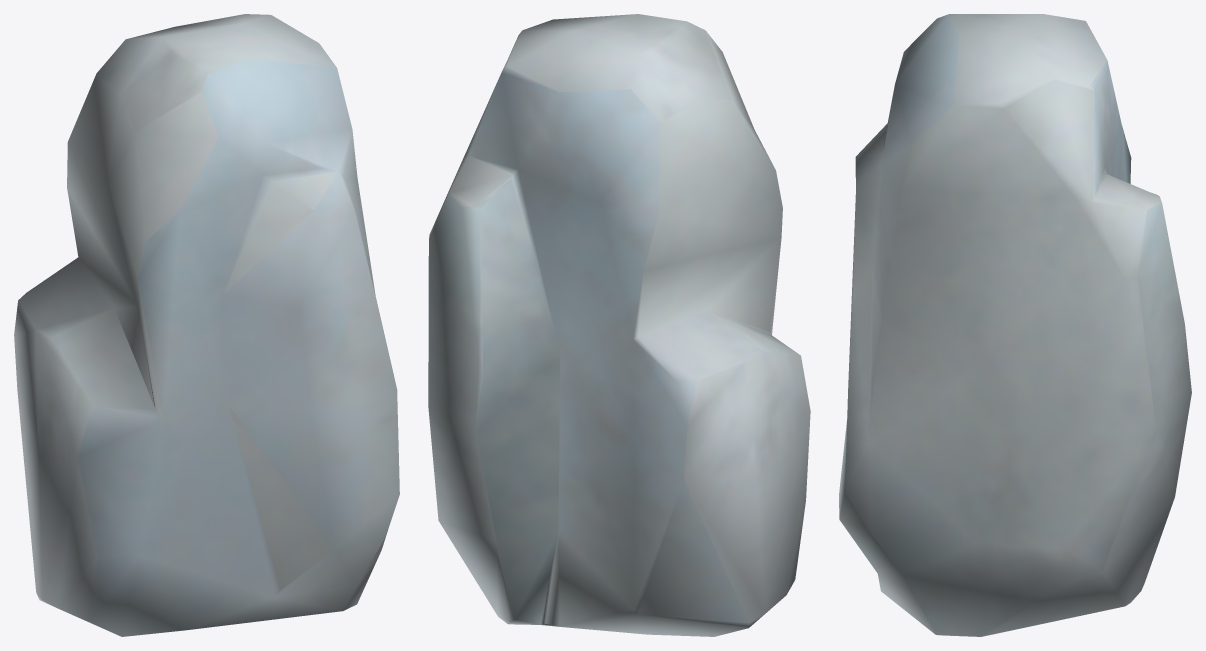
Rendered from P_RockSpire_Rock15.obj.
3 views of the same model, side by side, from view 1: azimuth 30°, elevation 25°; view 2: azimuth 150°, elevation 25°; view 3: azimuth 270°, elevation 25° (orthographic).
Bounding box in the file's own units: 8.25 × 14.45 × 8.25.
